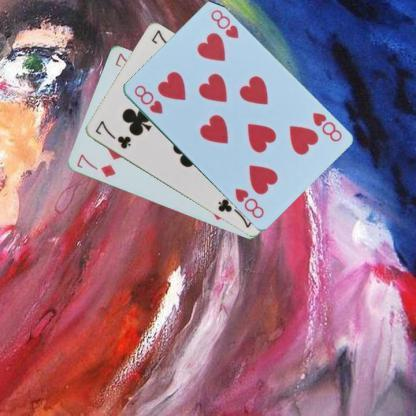7c: (92, 118, 132, 150)
7d: (74, 152, 117, 178)
8h: (309, 109, 343, 143), (131, 82, 164, 115)
